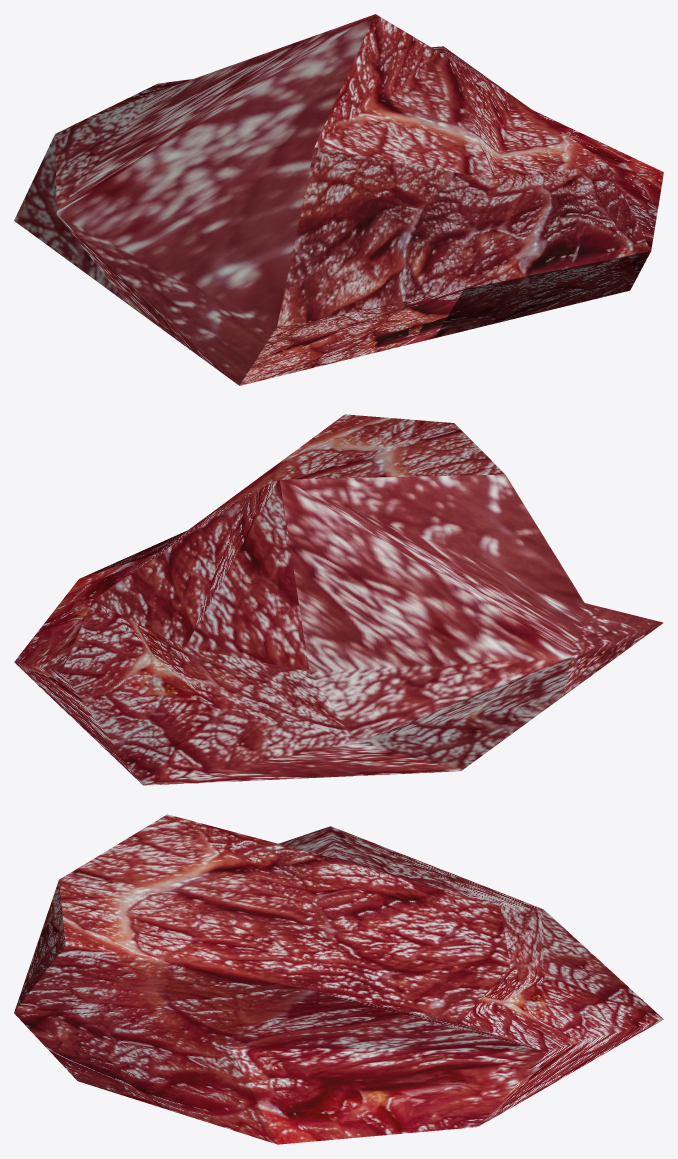
The model's file is Prop_meat.fbx.
3 views of the same model, one above another, from view 1: azimuth 30°, elevation 25°; view 2: azimuth 150°, elevation 25°; view 3: azimuth 270°, elevation 25° (orthographic). The views are drawn at different scales.
Parts seen in each view (by area): view 1: Cube.028; view 2: Cube.028; view 3: Cube.028.
Part boxes in pixels (x1,y1,x2,y2): Cube.028: [14, 14, 663, 385]; Cube.028: [14, 414, 663, 785]; Cube.028: [14, 814, 663, 1144].
Size of the model in its own units: 32.74 by 10.66 by 35.93.
